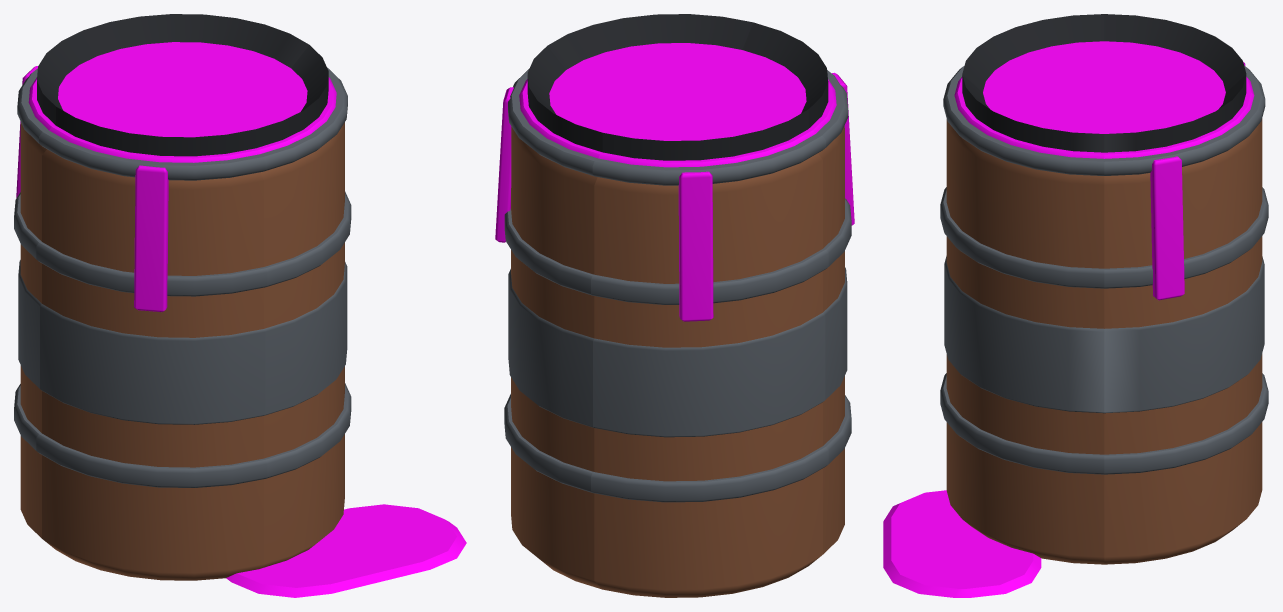
Rendered from objet_petrole_brut.glb.
3 renders of one model, left to right at view 1: azimuth 30°, elevation 25°; view 2: azimuth 150°, elevation 25°; view 3: azimuth 270°, elevation 25°, orthographic. The views are drawn at different scales.
Visible parts, largest first — view 1: baril_rouille.002, baril_acier_doux_sombre.008, baril_teinte.008, baril_symbole_noir.006; view 2: baril_rouille.002, baril_acier_doux_sombre.008, baril_teinte.008, baril_symbole_noir.006; view 3: baril_rouille.002, baril_acier_doux_sombre.008, baril_teinte.008, baril_symbole_noir.006.
Boxes of the visible parts, x1=… form: baril_rouille.002: x1=20, y1=122, x2=344, y2=580; baril_acier_doux_sombre.008: x1=14, y1=67, x2=351, y2=487; baril_teinte.008: x1=16, y1=42, x2=466, y2=597; baril_symbole_noir.006: x1=37, y1=14, x2=328, y2=156; baril_rouille.002: x1=511, y1=126, x2=844, y2=597; baril_acier_doux_sombre.008: x1=504, y1=68, x2=851, y2=502; baril_teinte.008: x1=495, y1=43, x2=854, y2=321; baril_symbole_noir.006: x1=527, y1=14, x2=828, y2=160; baril_rouille.002: x1=946, y1=118, x2=1262, y2=564; baril_acier_doux_sombre.008: x1=940, y1=66, x2=1268, y2=474; baril_teinte.008: x1=883, y1=41, x2=1254, y2=597; baril_symbole_noir.006: x1=962, y1=14, x2=1246, y2=152.
Size of the model in its own units: 0.244 by 0.301 by 0.244.
